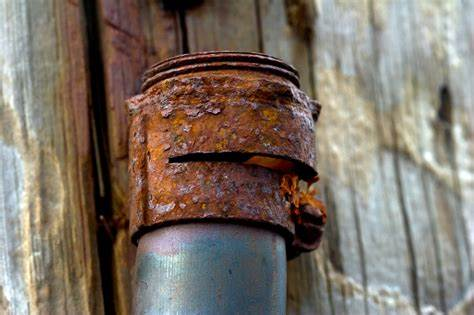Severe: (114, 53, 334, 240)
